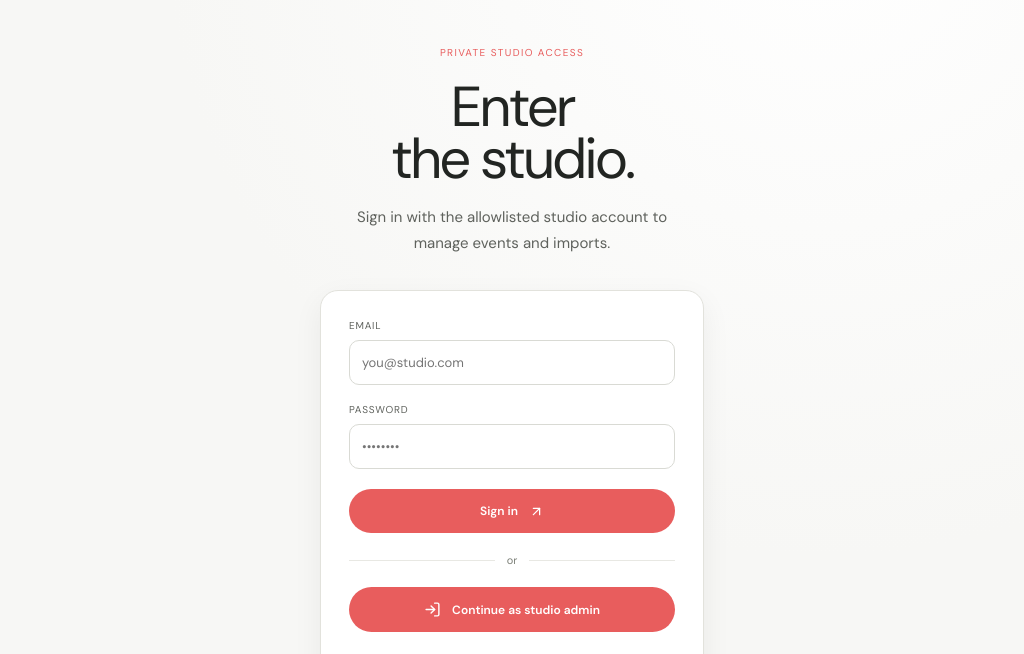
admin guard admits a superadmin › signing in at /admin/login lands on the dashboard
(page scrolled)
Click the button "Continue as studio admin". click: click(512, 610)
box: [349,587,675,632]
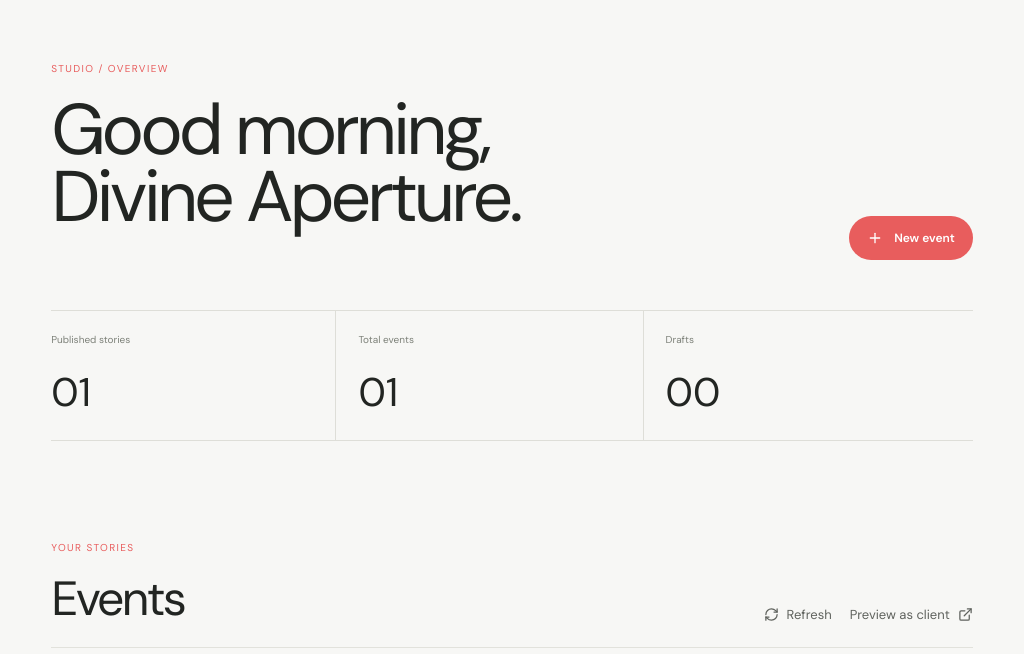
Expected: the text "New event" is shown, [849,216,973,260]
